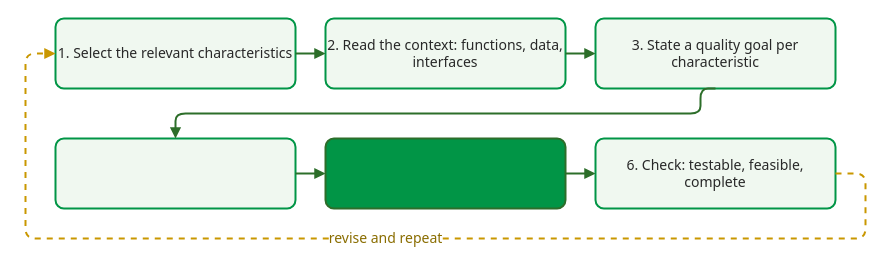
This 891x264 diagram has some shape labels left out. Here are the shapes that lost their labels. From the top down, the centre of each, then its label:
At [175,173]: "4. Choose a measure for each goal".
At [445,173]: "5. Write the requirement with a threshold".
